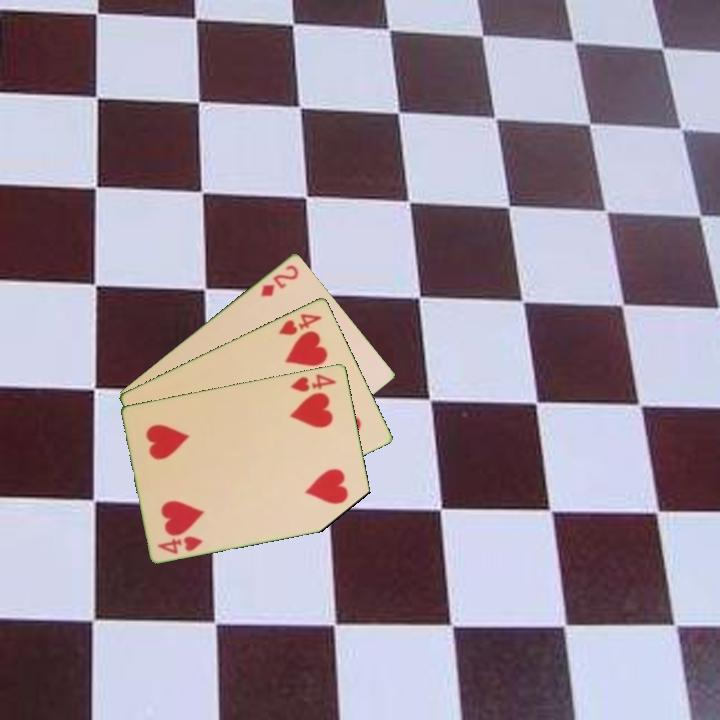2d: (257, 261, 302, 299)
4h: (275, 310, 325, 338), (154, 532, 206, 557), (287, 370, 340, 394)
